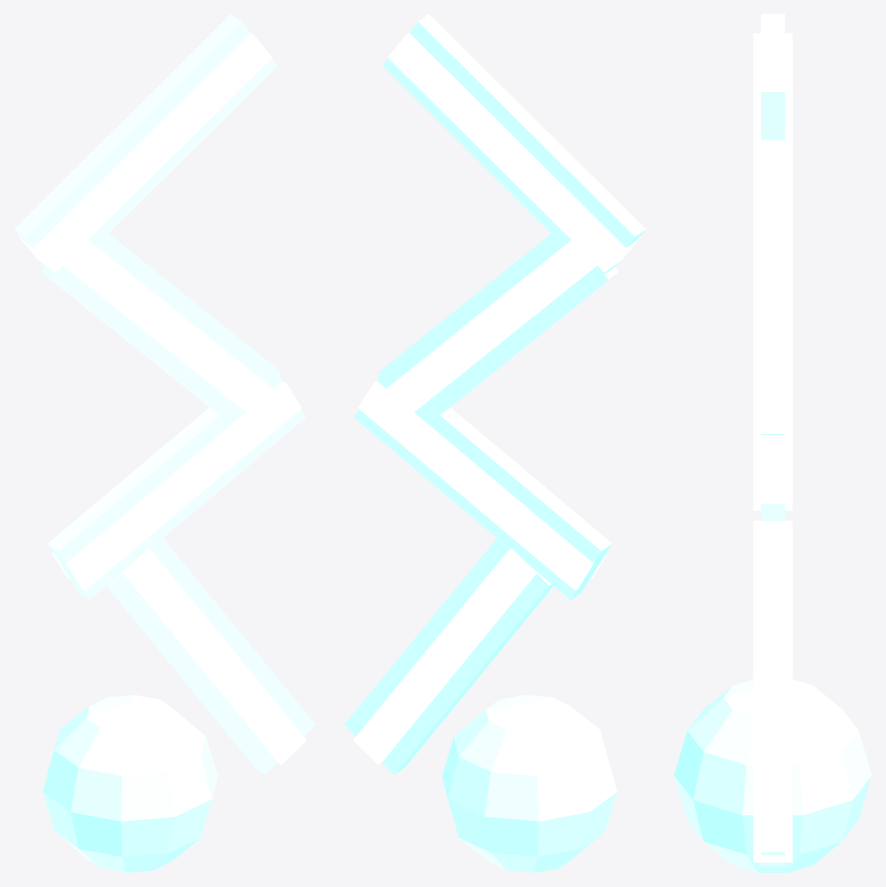
The model's file is zap.glb.
The picture shows the model from 3 angles, left to right: view 1: azimuth 30°, elevation 25°; view 2: azimuth 150°, elevation 25°; view 3: azimuth 270°, elevation 25°; orthographic projection. The views are drawn at different scales.
Visible parts, largest first — view 1: zap; view 2: zap; view 3: zap.
Part boxes in pixels (x1,y1,x2,y2): zap: (14,14,315,872); zap: (344,14,645,872); zap: (674,14,871,872).
Bounding box in the file's own units: 0.9395 × 2.53 × 0.5.
